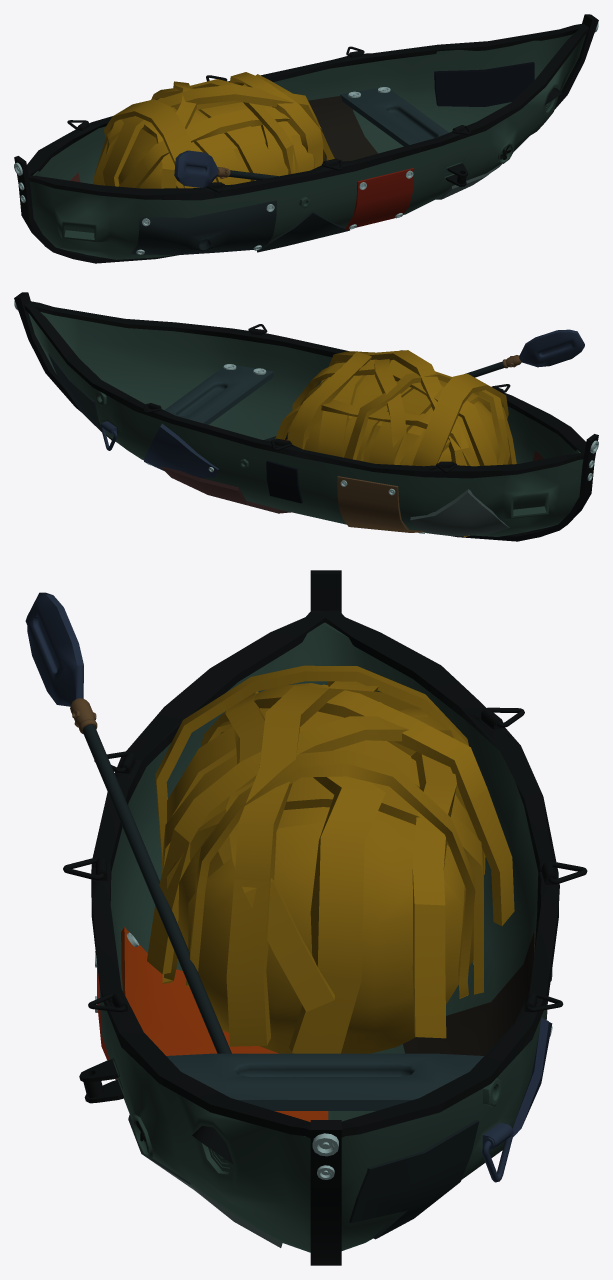
File: KelpBoat03.fbx
3 views of the same model, one above another, from view 1: azimuth 30°, elevation 25°; view 2: azimuth 150°, elevation 25°; view 3: azimuth 270°, elevation 25° (orthographic). The views are drawn at different scales.
Parts seen in each view (by area): view 1: BoatBody001, Boat04, Line030, Box372, Line044, Line031, Line038, Box375, Line029, Line042, Line043, Line035 (+8 smaller); view 2: BoatBody001, Line030, Boat04, Box372, Line032, Line042, Line029, Box374, Box375, Line037, Line043, Line044 (+10 smaller); view 3: BoatBody001, Line030, Box375, Boat04, Line044, Line037, Box372, Line039, Line043, Line041, Line040, Line042 (+8 smaller).
Boxes of the visible parts, x1,y1,x2,y2 form: BoatBody001: [29, 33, 586, 259]; Boat04: [70, 62, 561, 255]; Line030: [27, 23, 588, 200]; Box372: [340, 86, 450, 174]; Line044: [93, 84, 334, 184]; Line031: [345, 168, 414, 229]; Line038: [119, 107, 324, 188]; Box375: [118, 102, 315, 188]; Line029: [14, 14, 598, 263]; Line042: [104, 99, 199, 188]; Line043: [230, 72, 323, 168]; Line035: [198, 105, 278, 181]; BoatBody001: [28, 312, 583, 536]; Line030: [24, 301, 586, 478]; Boat04: [48, 353, 543, 513]; Box372: [164, 365, 273, 424]; Line032: [337, 476, 423, 532]; Line042: [412, 373, 508, 466]; Line029: [14, 292, 598, 541]; Box374: [410, 489, 509, 536]; Box375: [300, 374, 499, 465]; Line037: [291, 359, 497, 465]; Line043: [287, 351, 371, 449]; Line044: [328, 350, 470, 536]; BoatBody001: [99, 622, 552, 1252]; Line030: [63, 610, 587, 1138]; Box375: [177, 741, 473, 1053]; Boat04: [79, 927, 535, 1247]; Line044: [226, 685, 415, 1046]; Line037: [289, 681, 385, 1053]; Box372: [119, 1053, 483, 1110]; Line039: [399, 706, 456, 1038]; Line043: [186, 749, 475, 998]; Line041: [201, 683, 514, 925]; Line040: [147, 716, 485, 974]; Line042: [155, 665, 468, 876].
Size of the model in its own units: 489 by 137 by 205.
